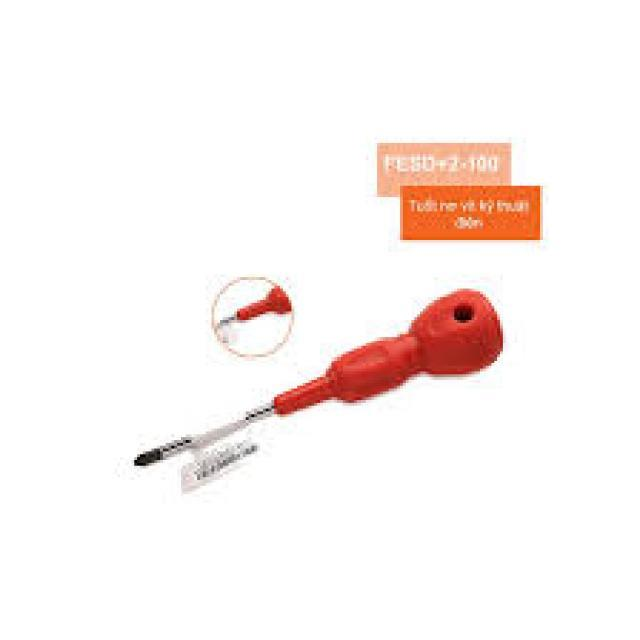screwdriver: (130, 278, 502, 473)
